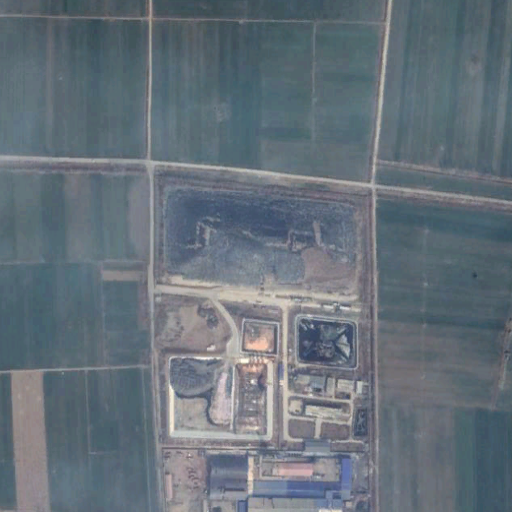lf: (150, 168, 367, 299)
